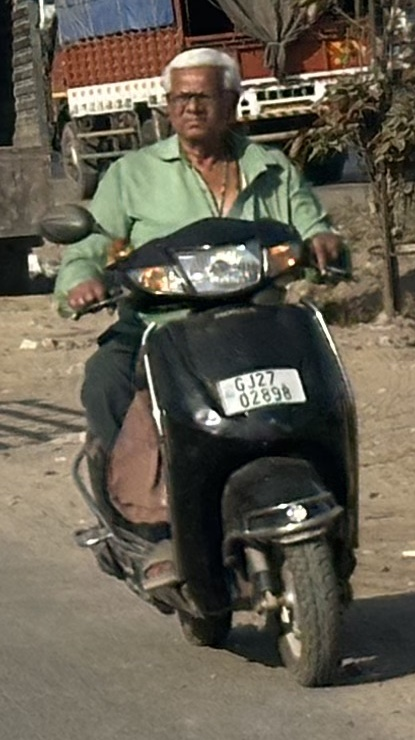BikeWithRider: (19, 37, 377, 694)
NoHelmet: (150, 39, 254, 152)
